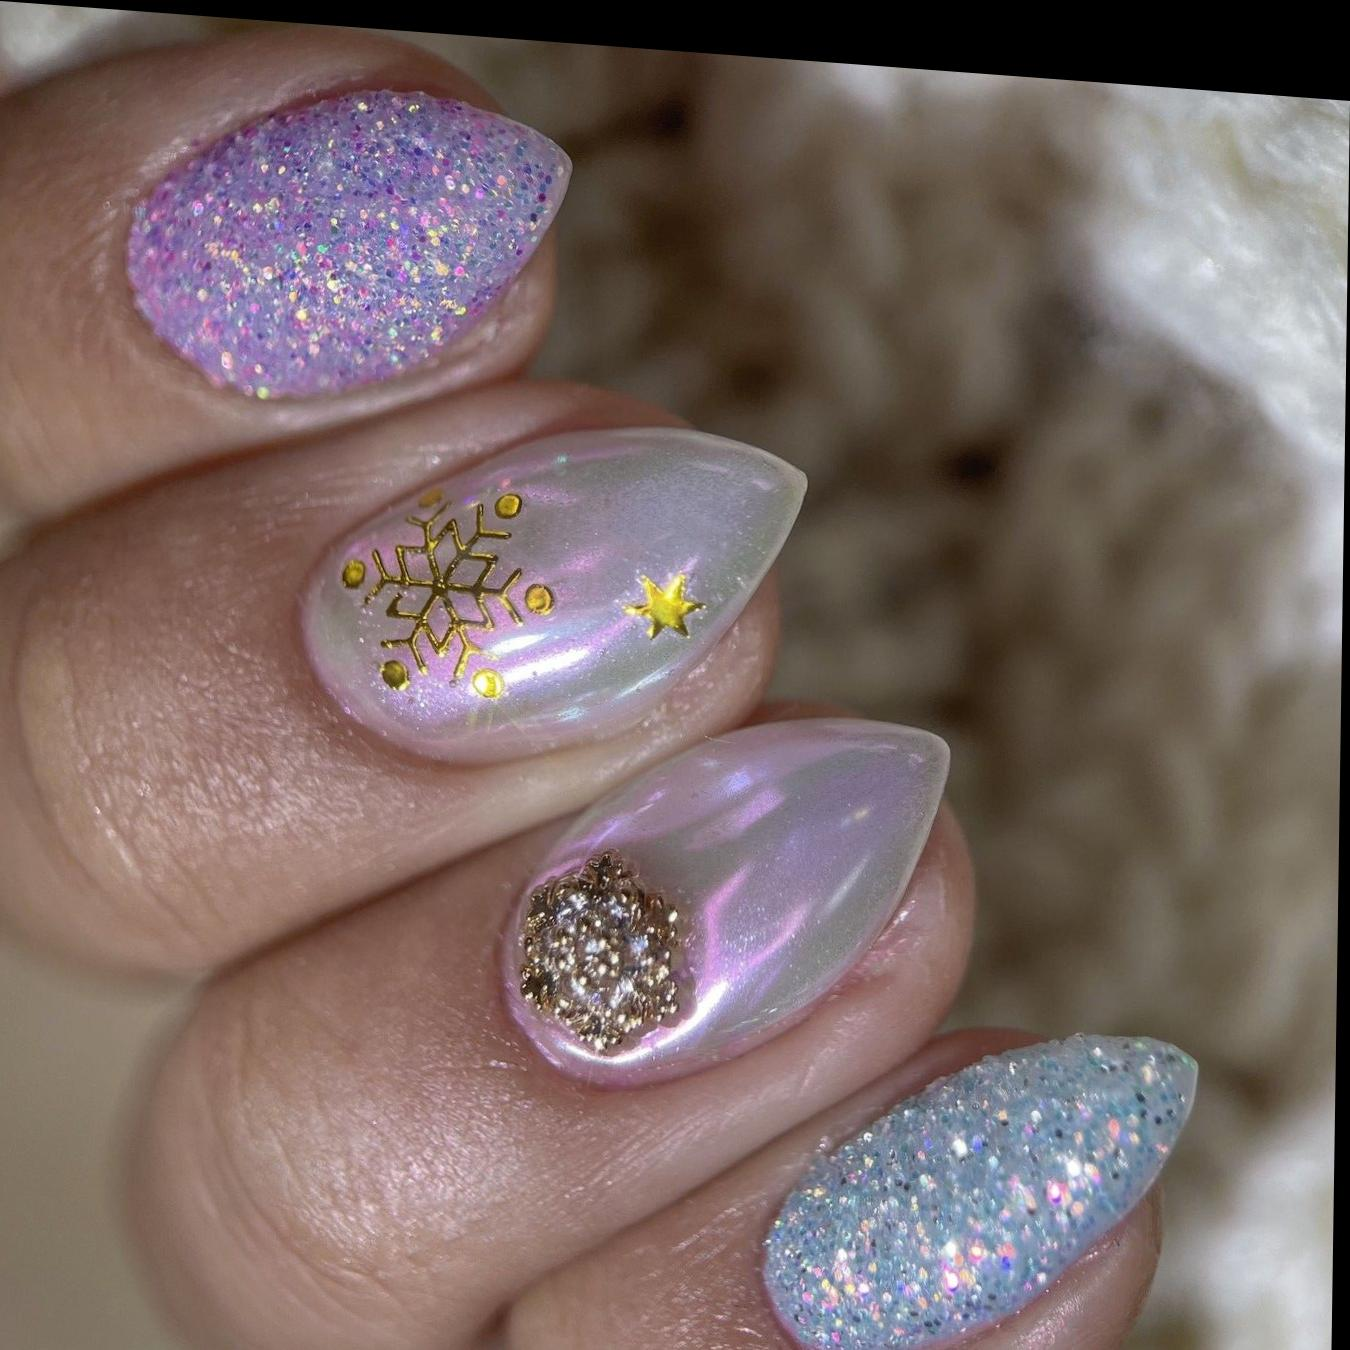nail: (292, 394, 809, 791), (495, 687, 953, 1114), (117, 61, 574, 424), (755, 1004, 1200, 1350)
